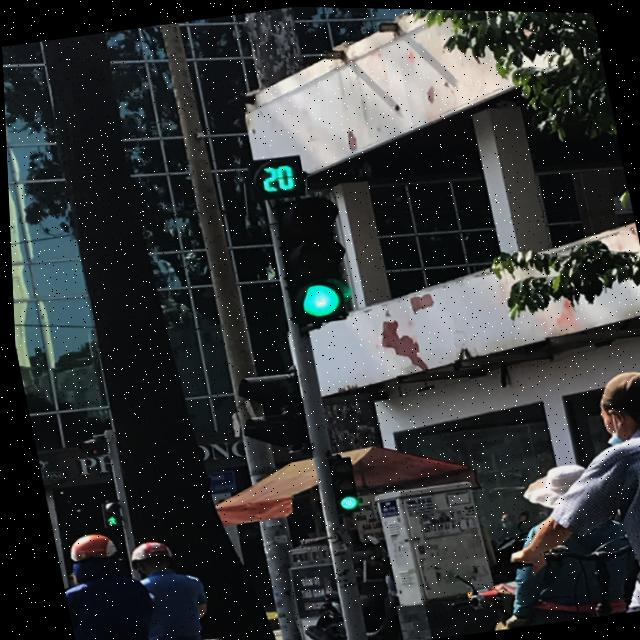Green: (263, 187, 361, 332), (315, 440, 363, 515)
